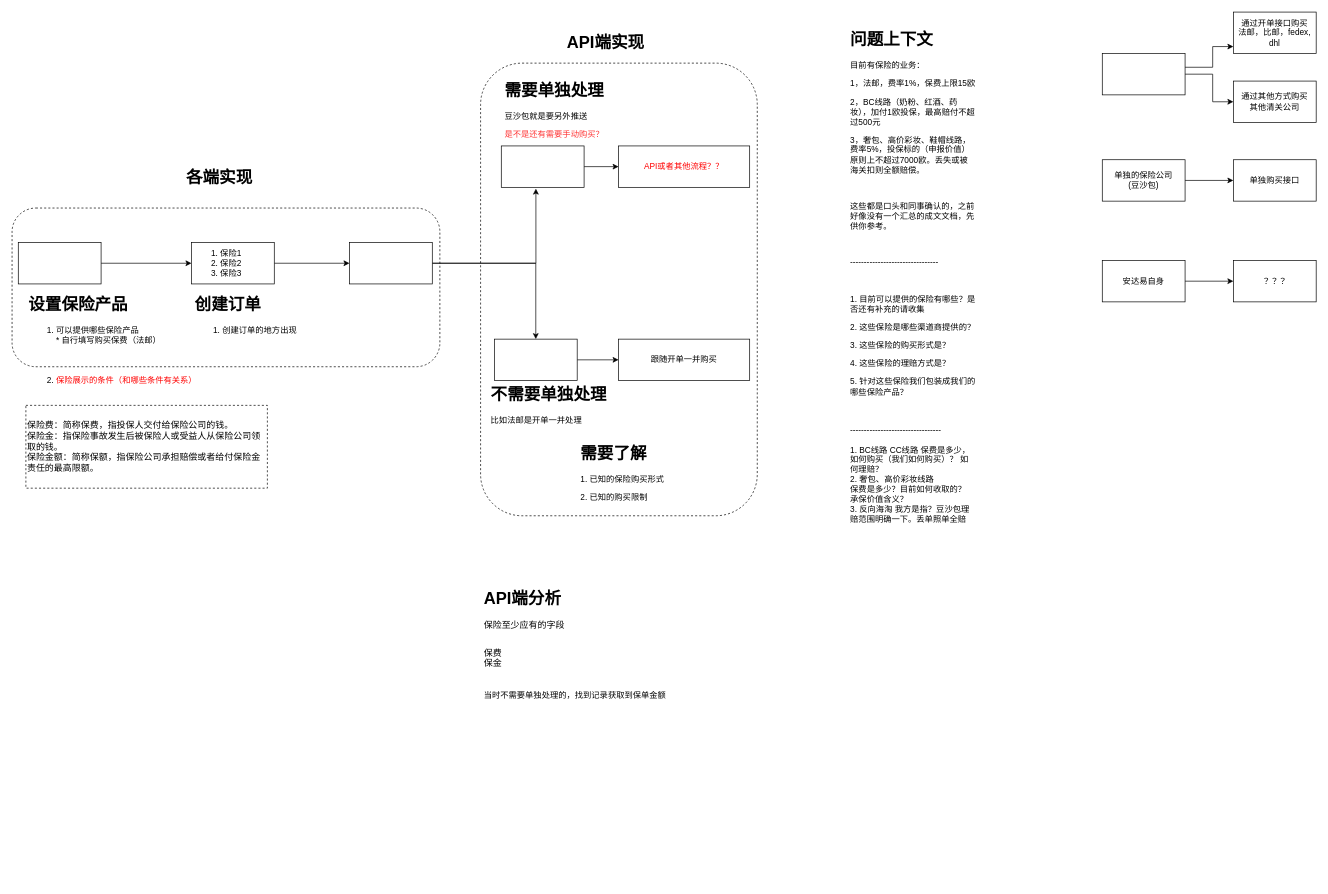
The diagram is 1328 pixels wide and 894 high, and some of its shapes have lost their labels. The centre of each missing label's shape, as x and y in pixels:
"不需要单独处理" belongs at point 535,359.
"形成保单" belongs at point 390,263.
"渠道商提供 （法邮，比邮，fedex, dhl，其他清关公司）" belongs at point 1143,74.
"设置保险产品" belongs at point 59,263.
"需要单独处理" belongs at point 542,166.
